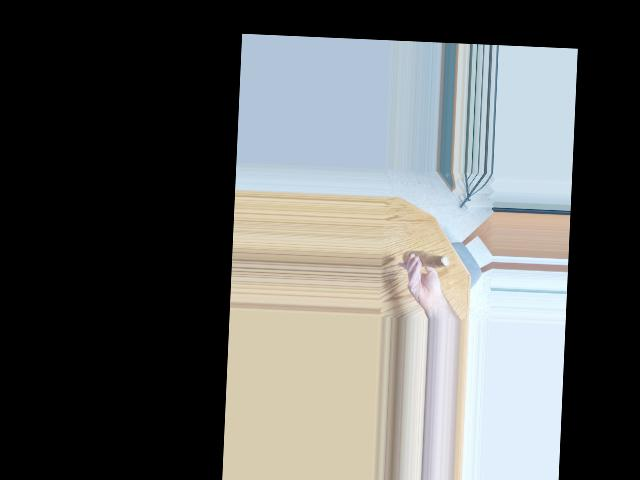sweet_potato: (406, 248, 446, 271)
